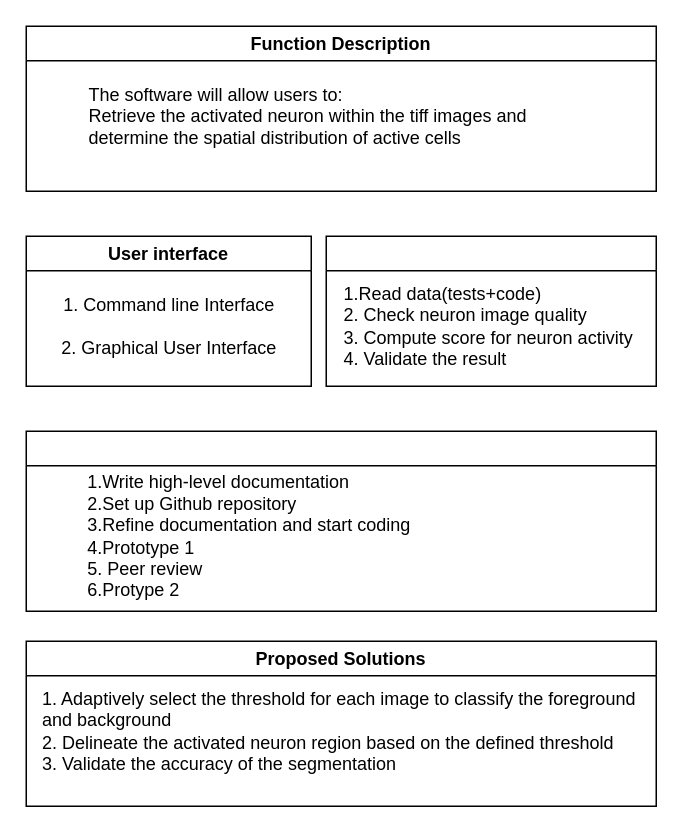
The diagram is 698 pixels wide and 833 high, and some of its shapes have lost their labels. Each missing label, with the box of its shape:
Goals and milestones: (25, 430, 656, 611)
Prioritization: (325, 235, 656, 386)
